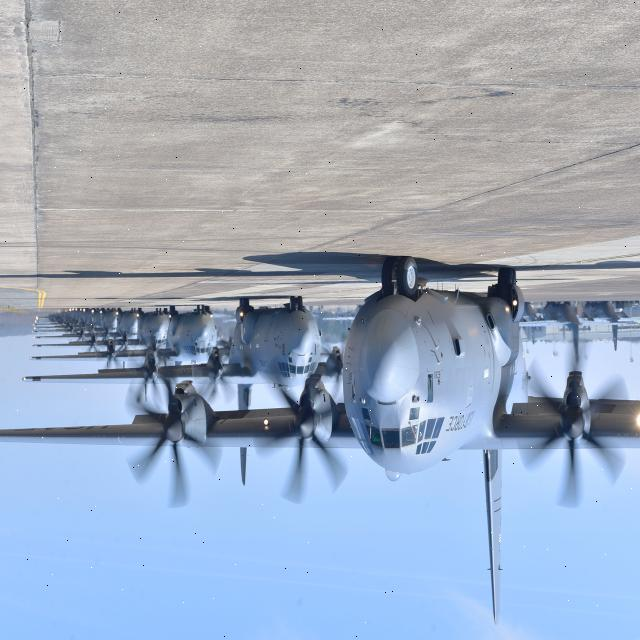C130: (0, 245, 640, 640)
